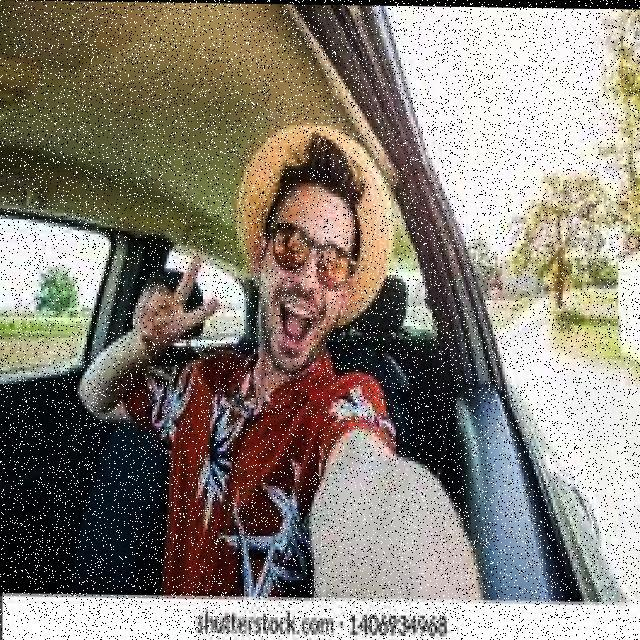noSeatbelt: (156, 318, 394, 600)
